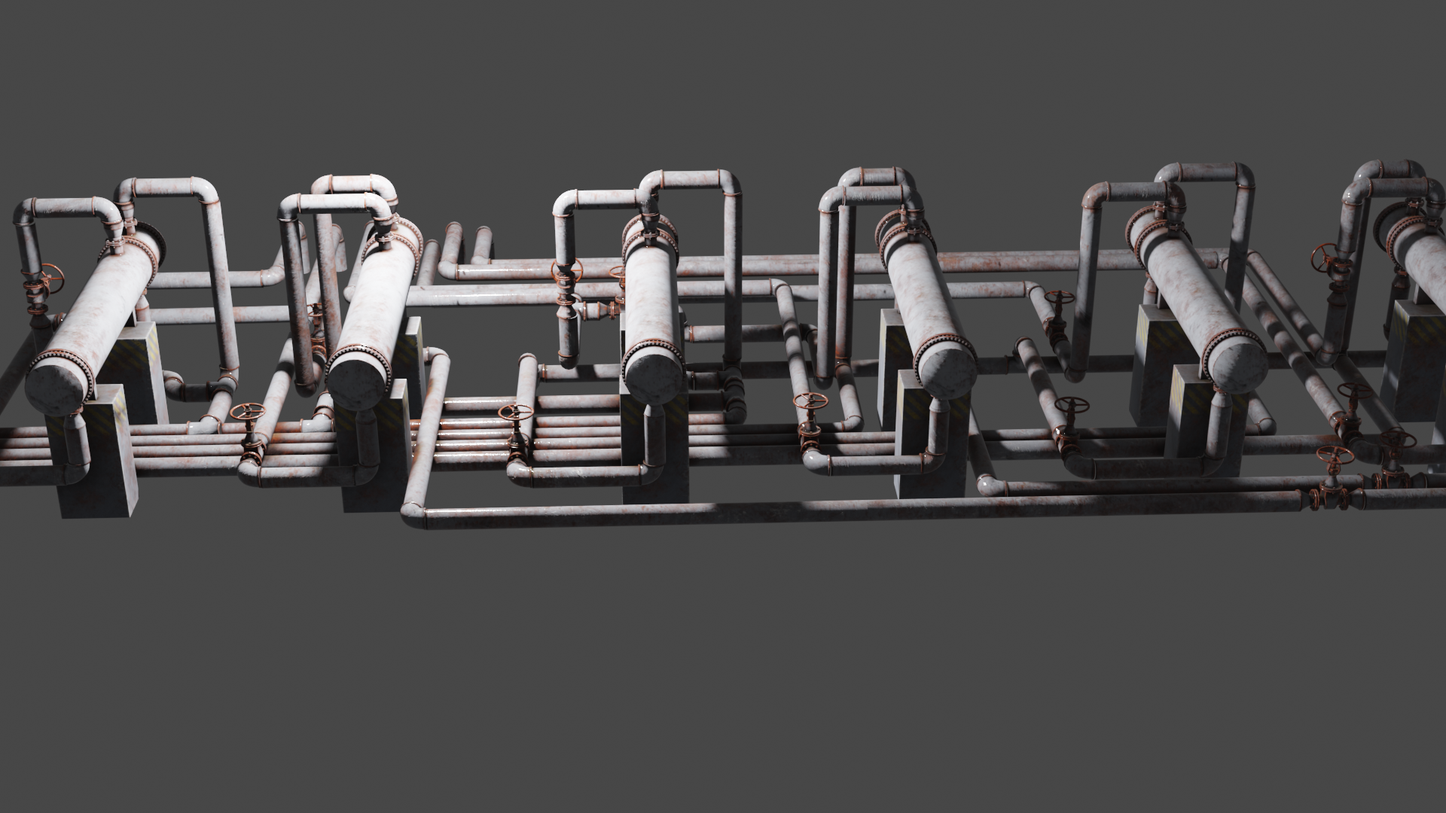HE_1: (1372, 198, 1446, 318)
HE_2: (1123, 205, 1266, 400)
HE_3: (872, 206, 977, 403)
HE_4: (620, 212, 683, 405)
HE_5: (321, 209, 425, 414)
HE_6: (23, 221, 169, 418)
